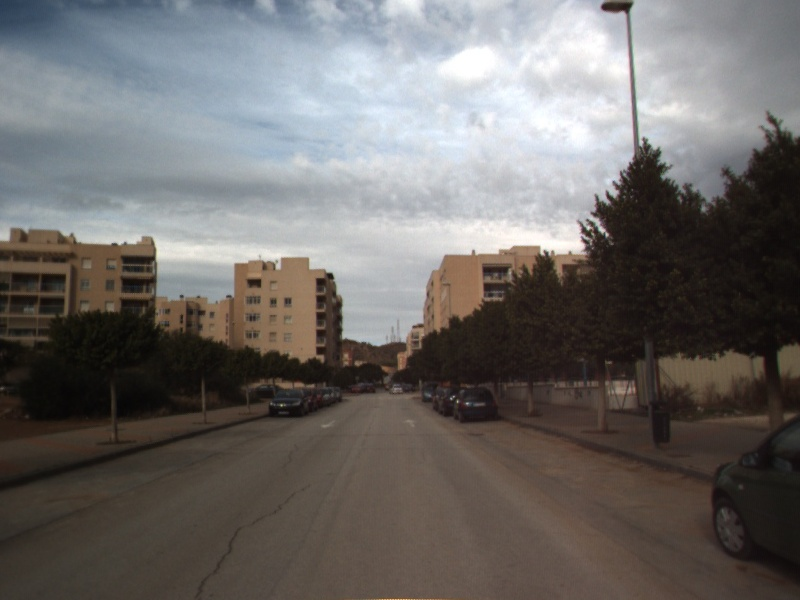STRAIGHT: (401, 417, 420, 429)
